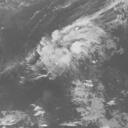cyclone: (34, 15, 113, 80)
